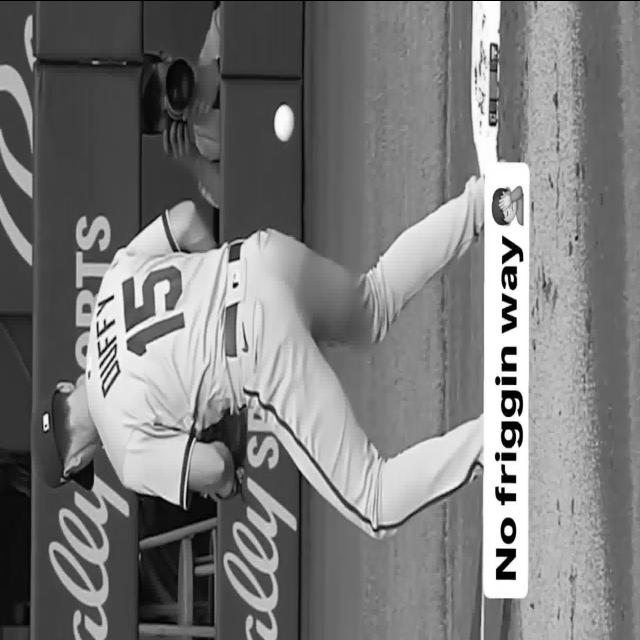base: (471, 0, 500, 173)
baseball: (274, 102, 295, 140)
baseball_glove: (201, 409, 246, 464)
